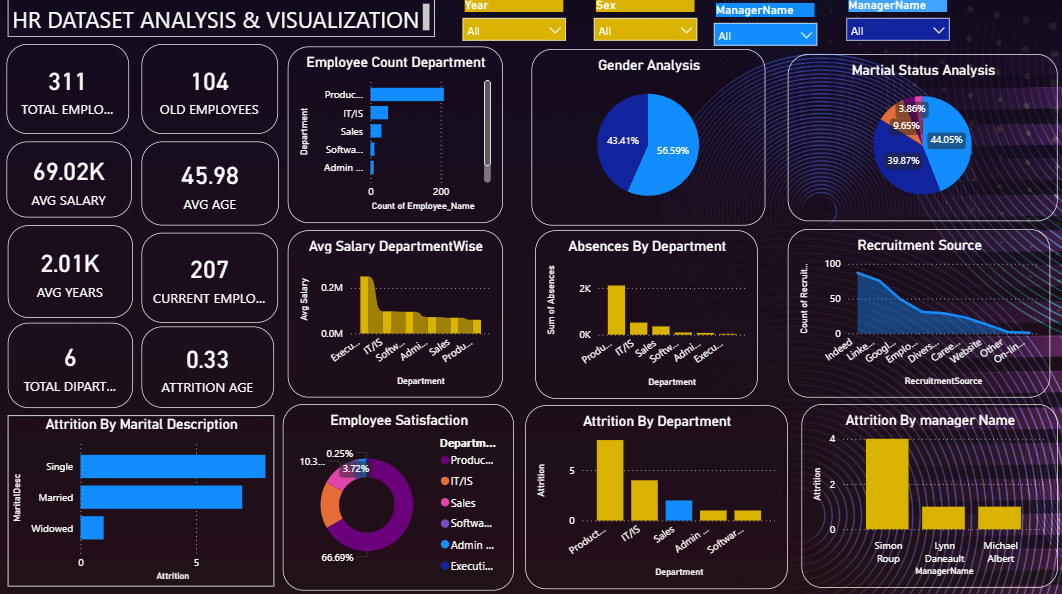

The page's visual inventory and layout, read from the dashboard file:
{"tool":"powerbi","page":{"name":"Page 2","canvas":[1280,720],"ordinal":1},"visuals":[{"type":"textbox","box":[10.5,5.8,512.8,45.3],"z":0},{"type":"card","fields":{"Values":["AllEmployees.Total Employees"]},"box":[9,60,147.1,108.1],"z":1000},{"type":"card","fields":{"Values":["AllEmployees.Total Old Employees"]},"box":[171.1,60,163.6,108.1],"z":2000},{"type":"card","fields":{"Values":["AllEmployees.Avg Salary"]},"box":[9,177.1,150.1,91.6],"z":3000},{"type":"card","fields":{"Values":["AllEmployees.Avg Age"]},"box":[171.1,177.1,165.1,100.6],"z":4000},{"type":"card","fields":{"Values":["AllEmployees.Avg Years"]},"box":[10.5,277.7,150.1,111.1],"z":5000},{"type":"card","fields":{"Values":["AllEmployees.Total Current Employees"]},"box":[171.1,286.7,163.6,108.1],"z":6000},{"type":"card","fields":{"Values":["AllEmployees.Total Dipartments"]},"box":[10.5,394.7,150.1,102.1],"z":7000},{"type":"card","fields":{"Values":["AllEmployees.Attrition Rate"]},"box":[171.1,399.3,159.1,97.6],"z":8000},{"type":"clusteredBarChart","title":"Employee Count Department","fields":{"Category":["AllEmployees.Department"],"Y":["AllEmployees.Employee_Name"]},"box":[346.7,63,258.2,211.6],"z":9000},{"type":"pieChart","title":"Gender Analysis","fields":{"Category":["AllEmployees.Sex"],"Y":["AllEmployees.Sex"]},"box":[639.4,66,280.7,211.6],"z":10000},{"type":"ribbonChart","title":"Avg Salary DepartmentWise","fields":{"Category":["AllEmployees.Department"],"Y":["AllEmployees.Avg Salary"]},"box":[346.7,283.7,258.2,201.1],"z":11000},{"type":"pieChart","title":"Martial Status Analysis","fields":{"Category":["AllEmployees.MaritalDesc"],"Y":["AllEmployees.MaritalDesc"]},"box":[947.1,72,324.2,201.1],"z":12000},{"type":"clusteredColumnChart","title":"Absences By Department","fields":{"Category":["AllEmployees.Department"],"Y":["AllEmployees.Absences"]},"box":[643.9,283.7,267.2,202.6],"z":13000},{"type":"stackedAreaChart","title":"Recruitment Source","fields":{"Category":["AllEmployees.RecruitmentSource"],"Y":["AllEmployees.RecruitmentSource"]},"box":[947.1,282.2,315.2,202.6],"z":14000},{"type":"donutChart","title":"Employee Satisfaction","fields":{"Category":["AllEmployees.Department"],"Y":["AllEmployees.EmpSatisfaction"]},"box":[340.7,492.3,277.7,223.6],"z":15000},{"type":"columnChart","title":"Attrition By Department","fields":{"Category":["AllEmployees.Department"],"Y":["AllEmployees.Attrition"]},"box":[631.9,493.8,315.2,220.6],"z":16000},{"type":"clusteredColumnChart","title":"Attrition By manager Name","fields":{"Y":["AllEmployees.Attrition"],"Category":["AllEmployees.ManagerName"]},"box":[963.6,492.3,307.7,220.6],"z":17000},{"type":"barChart","title":"Attrition By Marital Description","fields":{"Category":["AllEmployees.MaritalDesc"],"Y":["AllEmployees.Attrition"]},"box":[10.5,505.8,319.7,205.6],"z":18000},{"type":"slicer","fields":{"Values":["AllEmployees.Year"]},"box":[546.3,0,144.1,81.1],"z":18001},{"type":"slicer","fields":{"Values":["AllEmployees.Sex"]},"box":[703.9,0,144.1,81.1],"z":18002},{"type":"slicer","fields":{"Values":["AllEmployees.ManagerName"]},"box":[848,6,144.1,57],"z":18003},{"type":"slicer","fields":{"Values":["AllEmployees.ManagerName"]},"box":[1007.1,0,144.1,81.1],"z":18004}]}

Visuals, with their boxes in screenshot pixels (x1, y1, x2, y2), scaled from the page's 1280x720 canvas onto the 1062x594 screenshot:
textbox: <region>9, 5, 434, 42</region>
card - AllEmployees.Total Employees: <region>7, 50, 130, 139</region>
card - AllEmployees.Total Old Employees: <region>142, 50, 278, 139</region>
card - AllEmployees.Avg Salary: <region>7, 146, 132, 222</region>
card - AllEmployees.Avg Age: <region>142, 146, 279, 229</region>
card - AllEmployees.Avg Years: <region>9, 229, 133, 321</region>
card - AllEmployees.Total Current Employees: <region>142, 237, 278, 326</region>
card - AllEmployees.Total Dipartments: <region>9, 326, 133, 410</region>
card - AllEmployees.Attrition Rate: <region>142, 329, 274, 410</region>
"Employee Count Department" clusteredBarChart: <region>288, 52, 502, 227</region>
"Gender Analysis" pieChart: <region>531, 54, 763, 229</region>
"Avg Salary DepartmentWise" ribbonChart: <region>288, 234, 502, 400</region>
"Martial Status Analysis" pieChart: <region>786, 59, 1055, 225</region>
"Absences By Department" clusteredColumnChart: <region>534, 234, 756, 401</region>
"Recruitment Source" stackedAreaChart: <region>786, 233, 1047, 400</region>
"Employee Satisfaction" donutChart: <region>283, 406, 513, 591</region>
"Attrition By Department" columnChart: <region>524, 407, 786, 589</region>
"Attrition By manager Name" clusteredColumnChart: <region>799, 406, 1055, 588</region>
"Attrition By Marital Description" barChart: <region>9, 417, 274, 587</region>
slicer - AllEmployees.Year: <region>453, 0, 573, 67</region>
slicer - AllEmployees.Sex: <region>584, 0, 704, 67</region>
slicer - AllEmployees.ManagerName: <region>704, 5, 823, 52</region>
slicer - AllEmployees.ManagerName: <region>836, 0, 955, 67</region>
